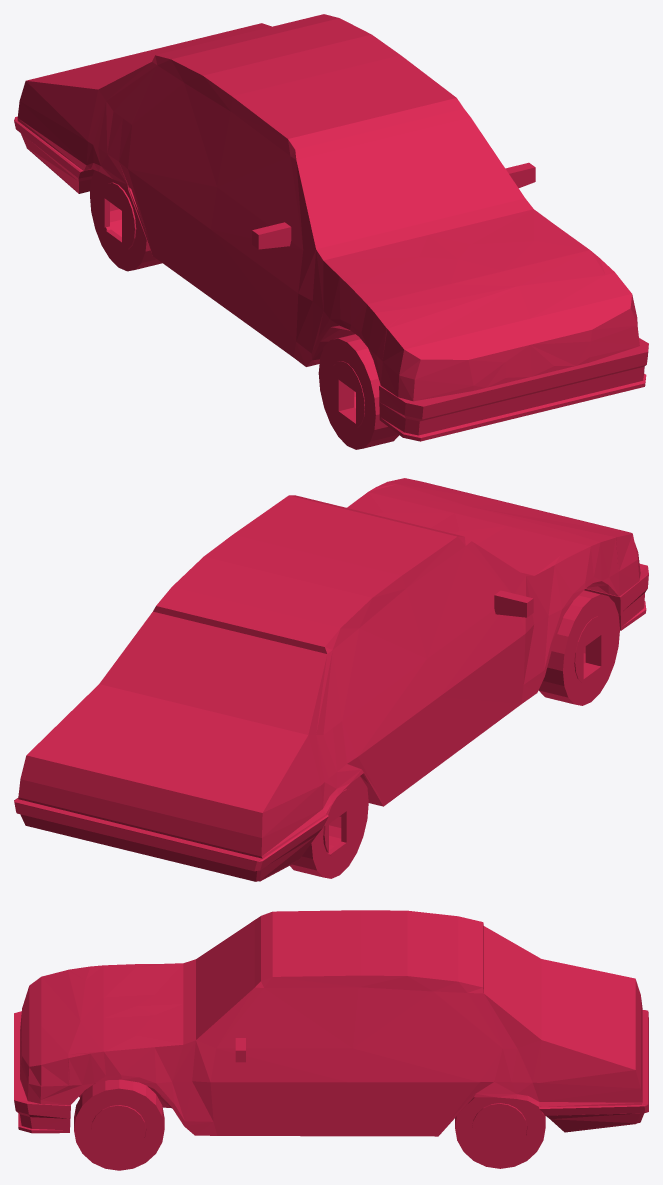
The model's file is CocheRojo.glb.
The picture shows the model from 3 angles, top to bottom: view 1: azimuth 30°, elevation 25°; view 2: azimuth 150°, elevation 25°; view 3: azimuth 270°, elevation 25°; orthographic projection. The views are drawn at different scales.
Visible parts, largest first — view 1: Mesh_Mesh_head_geo.001_lambert2SG.001; view 2: Mesh_Mesh_head_geo.001_lambert2SG.001; view 3: Mesh_Mesh_head_geo.001_lambert2SG.001.
Boxes of the visible parts, left/top/right/bottom form: Mesh_Mesh_head_geo.001_lambert2SG.001: left=14, top=14, right=648, bottom=449; Mesh_Mesh_head_geo.001_lambert2SG.001: left=14, top=478, right=648, bottom=881; Mesh_Mesh_head_geo.001_lambert2SG.001: left=14, top=910, right=648, bottom=1170.
Size of the model in its own units: 0.0405 by 0.032 by 0.1013.
